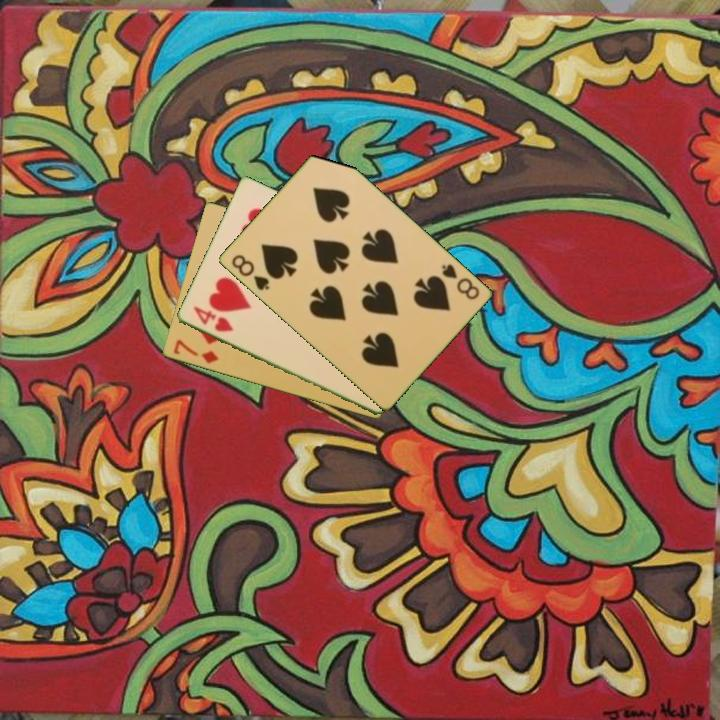4h: (189, 303, 236, 335)
7d: (169, 336, 221, 367)
8s: (437, 260, 482, 303), (227, 251, 272, 293)
